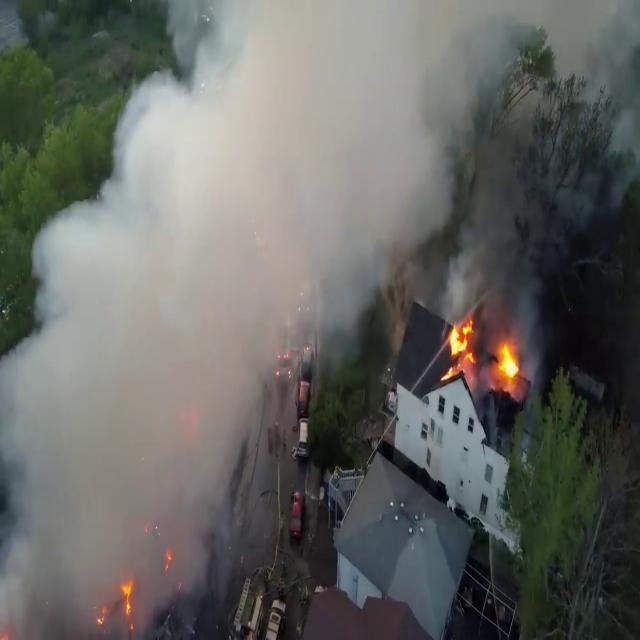Fire: (441, 314, 525, 392), (441, 314, 479, 372), (492, 334, 524, 389)
Smoke: (1, 0, 586, 628), (0, 1, 324, 628)
